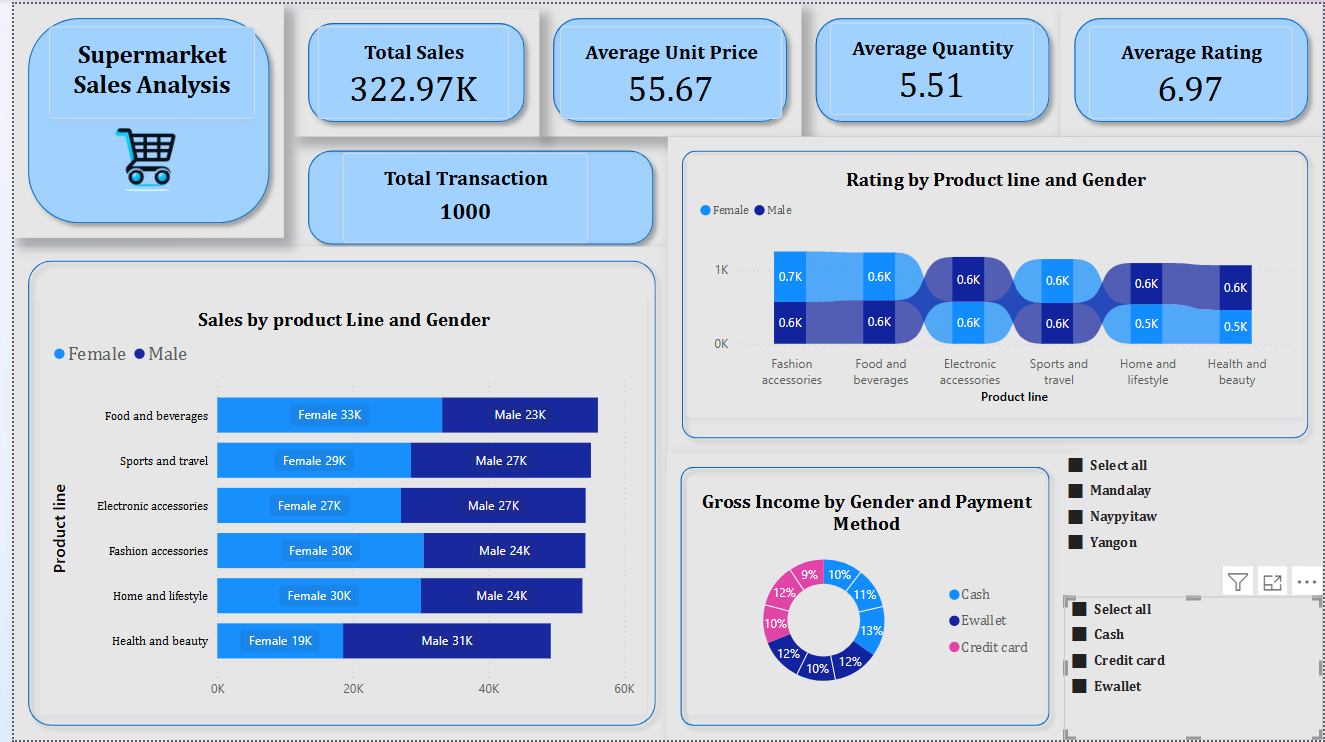

This screenshot's page, from the dashboard's own definition file:
{"tool":"powerbi","page":{"name":"Supermarket Sales Analysis","canvas":[1280,720],"ordinal":0},"visuals":[{"type":"shape","box":[273.9,129.6,365.6,119.8],"z":0},{"type":"shape","box":[770.4,0,256.8,129.6],"z":1000},{"type":"shape","box":[513.6,0,256.8,129.6],"z":2000},{"type":"shape","box":[273.9,4.9,239.7,124.7],"z":3000},{"type":"shape","box":[1023.5,0,256.8,129.6],"z":4000},{"type":"card","title":"Total Transaction","fields":{"Values":["Measures (2).Total Transactions"]},"box":[321.6,145.5,239.7,88],"z":5000},{"type":"card","title":"Average Rating","fields":{"Values":["Measures (2).Average Rating"]},"box":[1051.6,22,199.3,90.5],"z":6000},{"type":"card","title":"Average Quantity","fields":{"Values":["Measures (2).Average Quanity"]},"box":[798.5,18.3,199.3,90.5],"z":7000},{"type":"card","title":"Average Unit Price","fields":{"Values":["Measures (2).Average Unit Price"]},"box":[534.4,22,216.4,90.5],"z":8000},{"type":"card","title":"Total Sales","fields":{"Values":["Measures (2).Total Sales"]},"box":[297.1,22,187.1,90.5],"z":9000},{"type":"shape","box":[0,237.2,642,483],"z":10000},{"type":"shape","box":[639.5,129.6,640.8,309.4],"z":11000},{"type":"barChart","title":"Sales by product Line and Gender","fields":{"Category":["Supermarket_Sales-Data.Product line"],"Y":["Sum(Supermarket_Sales-Data.Sales)"],"Series":["Supermarket_Sales-Data.Gender"]},"box":[24.5,284.9,595.5,410.9],"z":12000},{"type":"ribbonChart","title":"Rating by Product line and Gender","fields":{"Category":["Supermarket_Sales-Data.Product line"],"Y":["Sum(Supermarket_Sales-Data.Rating)"],"Series":["Supermarket_Sales-Data.Gender"]},"box":[657.9,148,604.1,256.8],"z":13000},{"type":"shape","box":[638.3,439,388.9,281.3],"z":14000},{"type":"donutChart","title":"Gross Income by Gender and Payment Method","fields":{"Category":["Supermarket_Sales-Data.Payment"],"Y":["Sum(Supermarket_Sales-Data.Gross Income)"],"Series":["Supermarket_Sales-Data.Branch"]},"box":[657.9,462.2,351,233.6],"z":15000},{"type":"slicer","fields":{"Values":["Supermarket_Sales-Data.City"]},"box":[1023.5,439,256.8,140.6],"z":16000},{"type":"slicer","fields":{"Values":["Supermarket_Sales-Data.Payment"]},"box":[1027.2,579.6,253.1,140.6],"z":17000},{"type":"shape","box":[0,0,264.1,228.7],"z":18000},{"type":"textbox","box":[34.2,22,201.8,90.5],"z":19000},{"type":"image","box":[24.5,112.5,211.6,77],"z":20000}]}

Visuals, with their boxes in screenshot pixels (x1, y1, x2, y2), scaled from the page's 1280x720 canvas onto the 1325x742 screenshot:
shape: 284,134,662,257
shape: 797,0,1063,134
shape: 532,0,797,134
shape: 284,5,532,134
shape: 1059,0,1324,134
"Total Transaction" card: 333,150,581,241
"Average Rating" card: 1089,23,1295,116
"Average Quantity" card: 827,19,1033,112
"Average Unit Price" card: 553,23,777,116
"Total Sales" card: 308,23,501,116
shape: 0,244,665,741
shape: 662,134,1324,452
"Sales by product Line and Gender" barChart: 25,294,642,717
"Rating by Product line and Gender" ribbonChart: 681,153,1306,417
shape: 661,452,1063,741
"Gross Income by Gender and Payment Method" donutChart: 681,476,1044,717
slicer - Supermarket_Sales-Data.City: 1059,452,1324,597
slicer - Supermarket_Sales-Data.Payment: 1063,597,1324,741
shape: 0,0,273,236
textbox: 35,23,244,116
image: 25,116,244,195
